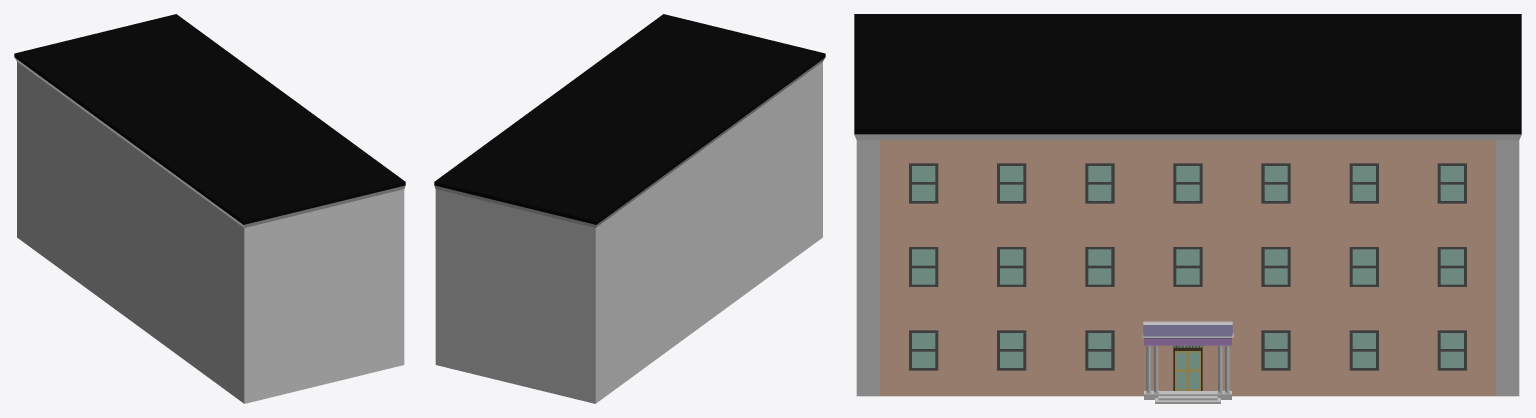
The model's file is Bldg I.fbx.
The picture shows the model from 3 angles, left to right: view 1: azimuth 30°, elevation 25°; view 2: azimuth 150°, elevation 25°; view 3: azimuth 270°, elevation 25°; orthographic projection. The views are drawn at different scales.
Visible parts, largest first — view 1: Cube; view 2: Cube; view 3: Cube.
Boxes of the visible parts, <box> form: Cube: <box>14,14,405,403</box>; Cube: <box>434,14,825,403</box>; Cube: <box>854,14,1521,403</box>.
Size of the model in its own units: 1410 by 1436 by 3247.
